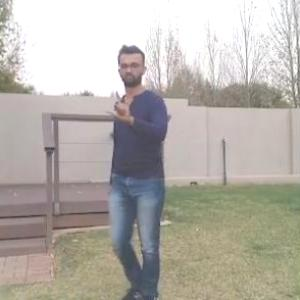land_hand: (105, 88, 136, 121)
